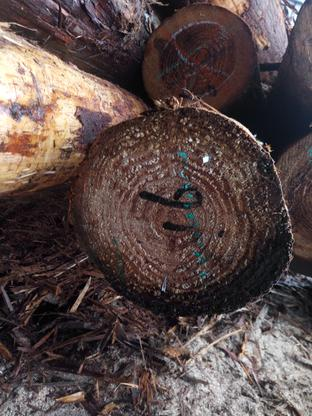mood: (72, 106, 294, 317)
